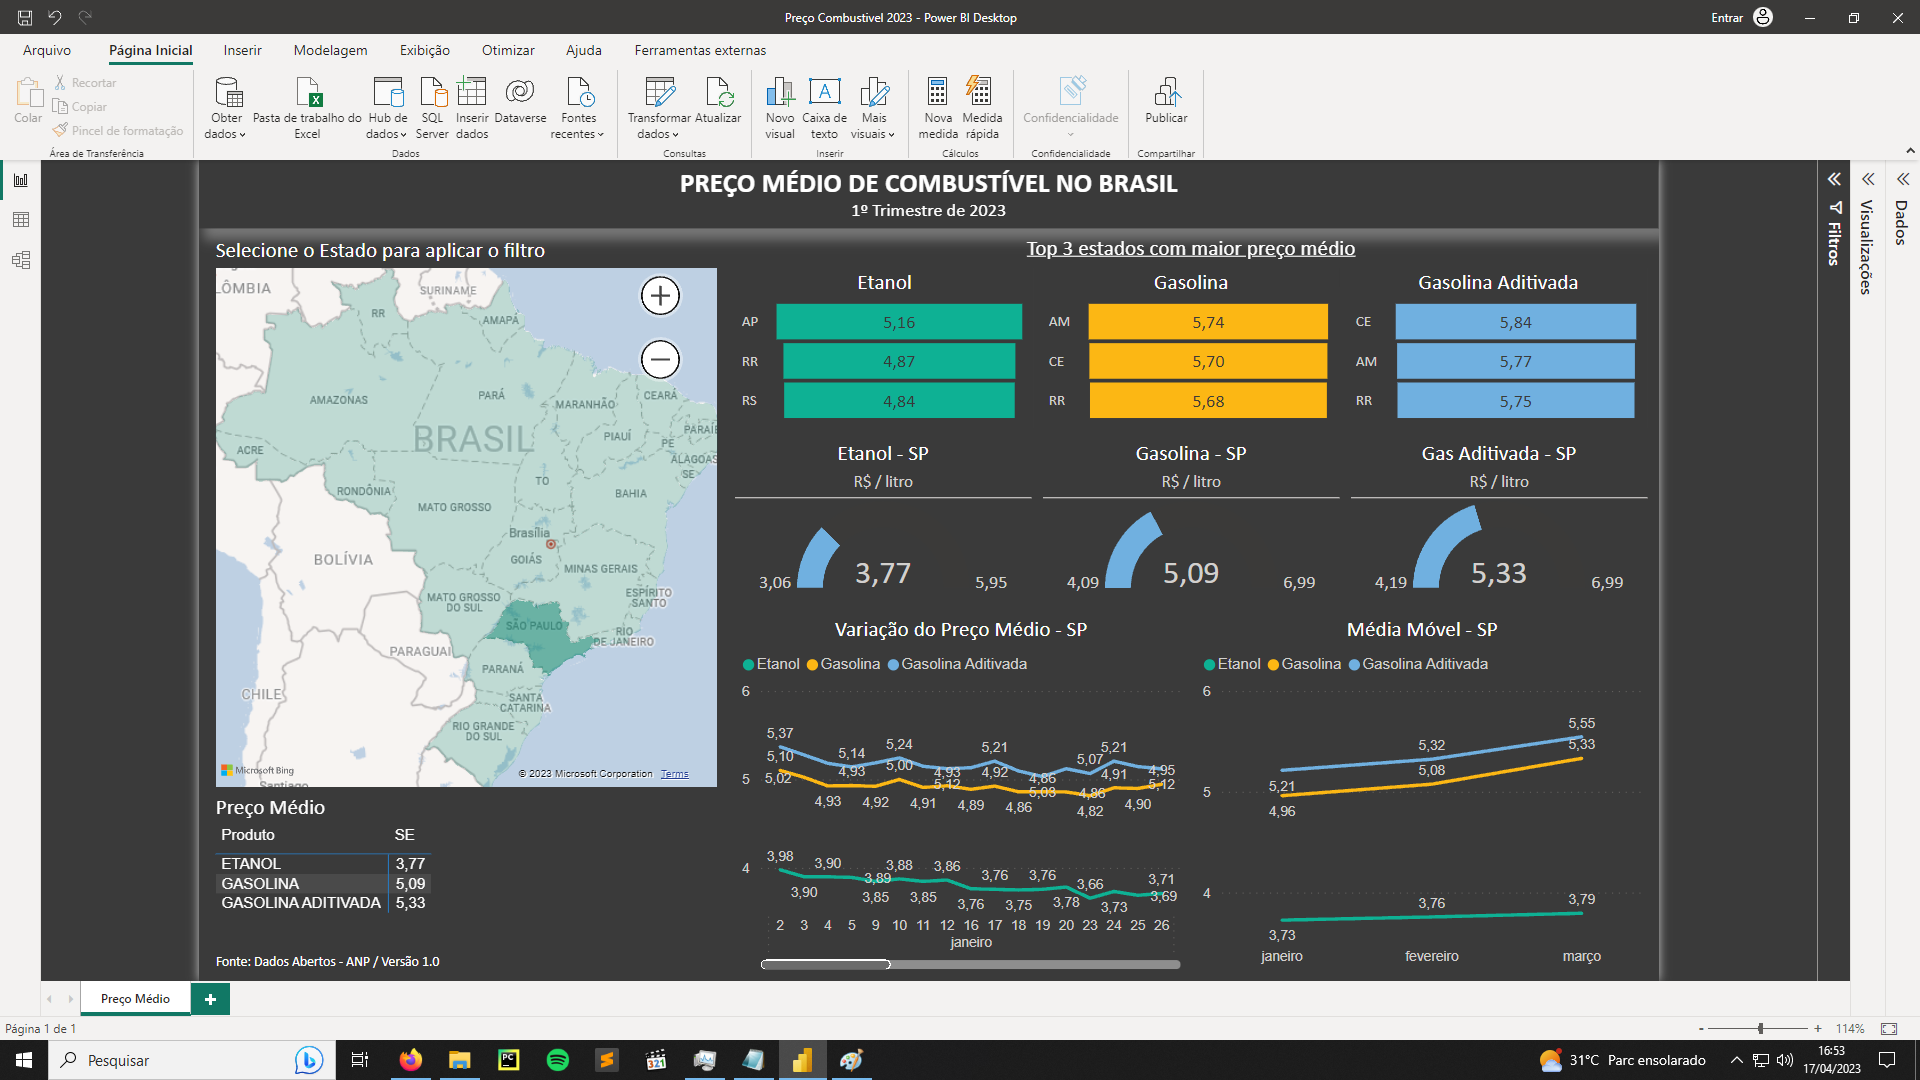

What the dashboard file says about the page in this screenshot:
{"tool":"powerbi","page":{"name":"Preço Médio","canvas":[1280,720],"ordinal":0},"visuals":[{"type":"lineChart","fields":{"Category":["preco_tratado.Data_Coleta.Variation.Hierarquia de datas.Mês","preco_tratado.Data_Coleta.Variation.Hierarquia de datas.Dia"],"Y":["Medidas.MediaNacEtanol","Medidas.MediaNacGasComum","Medidas.MediaNacGasAdit"]},"box":[470.9,395,395,320],"z":0},{"type":"lineChart","fields":{"Y":["Medidas.Média móvel de MediaNacEtanol","Medidas.Média móvel de MediaNacGasComum","Medidas.Média móvel de MediaNacGasAdit"],"Category":["preco_tratado.Data_Coleta.Variation.Hierarquia de datas.Mês","preco_tratado.Data_Coleta.Variation.Hierarquia de datas.Dia"]},"box":[874.9,395,395.1,320],"z":1000},{"type":"filledMap","title":"Selecione o Estado para aplicar o filtro","fields":{"Category":["preco_tratado.Estado"]},"box":[10,65,450,490],"z":2000},{"type":"pivotTable","fields":{"Rows":["preco_tratado.Produto"],"Columns":["preco_tratado.Regiao"],"Values":["Medidas.MediaValorVenda"]},"box":[10,554.7,450,123.7],"z":3000},{"type":"funnel","title":"Gasolina ","fields":{"Category":["TOPMediaGas.Estado"],"Y":["Avg(TOPMediaGas.GAS)"]},"box":[740.2,95,260,140.1],"z":4000},{"type":"textbox","box":[0,0,1280,60],"z":5000},{"type":"funnel","title":"Gasolina Aditivada","fields":{"Category":["TOPMediaGasAdit.Estado"],"Y":["Avg(TOPMediaGasAdit.GAS_ADIT)"]},"box":[1009.6,95,260.7,140.1],"z":6000},{"type":"funnel","title":"Etanol","fields":{"Category":["TOPMediaEtanol.Estado"],"Y":["Avg(TOPMediaEtanol.ETANOL)"]},"box":[470.8,95,260.7,140.1],"z":7000},{"type":"textbox","title":"Top 3 estados com maior preço médio","box":[470.2,65,800.1,30],"z":8000},{"type":"textbox","box":[10,690,225.5,25.9],"z":9000},{"type":"textbox","box":[470,245.1,260,52],"z":10000},{"type":"gauge","fields":{"Y":["Medidas.MediaNacEtanol"],"MinValue":["Medidas.MinMediaNacEtanol"],"MaxValue":["Medidas.MaxMediaNacEtanol"]},"box":[470,297.6,259.7,87.5],"z":11000},{"type":"textbox","box":[740,245,260,52],"z":12000},{"type":"gauge","fields":{"Y":["Medidas.MediaNacGasComum"],"MinValue":["Medidas.MinMediaNacGas"],"MaxValue":["Medidas.MaxMediaNacGas"]},"box":[740,297,259.7,87.5],"z":13000},{"type":"textbox","box":[1010.7,245,260,52],"z":14000},{"type":"gauge","fields":{"Y":["Medidas.MediaNacGasAdit"],"MinValue":["Medidas.MinMediaNacGasAdt"],"MaxValue":["Medidas.MaxMediaNacGasAdt"]},"box":[1010.7,297,259.7,87.5],"z":15000}]}

Visuals, with their boxes on the page's 1280x720 design canvas (x1, y1, x2, y2). These are canvas units, not pixel positions in the 1920x1080 screenshot, which may show the page scaled, cropped or inside an application window:
lineChart - preco_tratado.Data_Coleta.Variation.Hierarquia de datas.Mês x preco_tratado.Data_Coleta.Variation.Hierarquia de datas.Dia: Rect(471, 395, 866, 715)
lineChart - Medidas.Média móvel de MediaNacEtanol x Medidas.Média móvel de MediaNacGasComum: Rect(875, 395, 1270, 715)
"Selecione o Estado para aplicar o filtro" filledMap: Rect(10, 65, 460, 555)
pivotTable - preco_tratado.Produto x preco_tratado.Regiao: Rect(10, 555, 460, 678)
"Gasolina " funnel: Rect(740, 95, 1000, 235)
textbox: Rect(0, 0, 1280, 60)
"Gasolina Aditivada" funnel: Rect(1010, 95, 1270, 235)
"Etanol" funnel: Rect(471, 95, 732, 235)
"Top 3 estados com maior preço médio" textbox: Rect(470, 65, 1270, 95)
textbox: Rect(10, 690, 236, 716)
textbox: Rect(470, 245, 730, 297)
gauge - Medidas.MediaNacEtanol x Medidas.MinMediaNacEtanol: Rect(470, 298, 730, 385)
textbox: Rect(740, 245, 1000, 297)
gauge - Medidas.MediaNacGasComum x Medidas.MinMediaNacGas: Rect(740, 297, 1000, 384)
textbox: Rect(1011, 245, 1271, 297)
gauge - Medidas.MediaNacGasAdit x Medidas.MinMediaNacGasAdt: Rect(1011, 297, 1270, 384)
